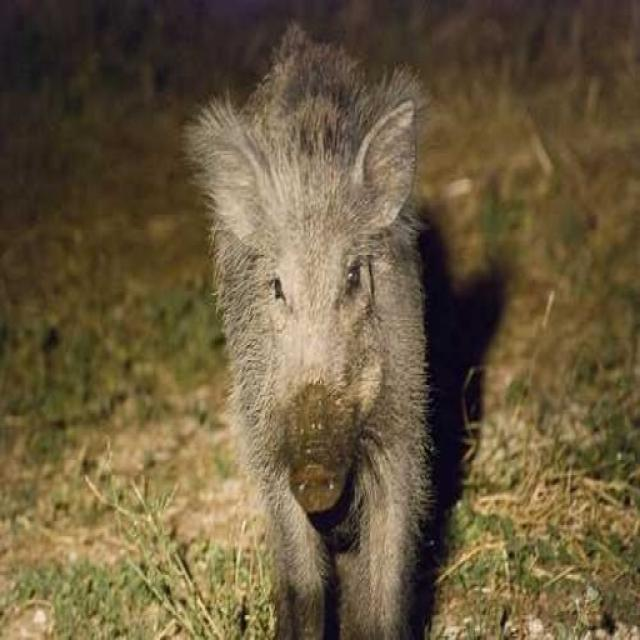pig: (189, 17, 478, 640)
